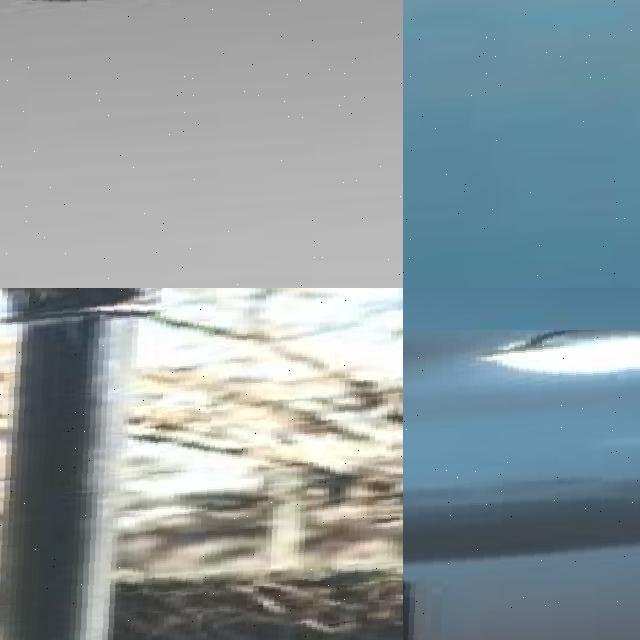street light: (0, 288, 403, 640), (0, 0, 403, 288), (403, 330, 640, 640), (403, 0, 640, 288)
